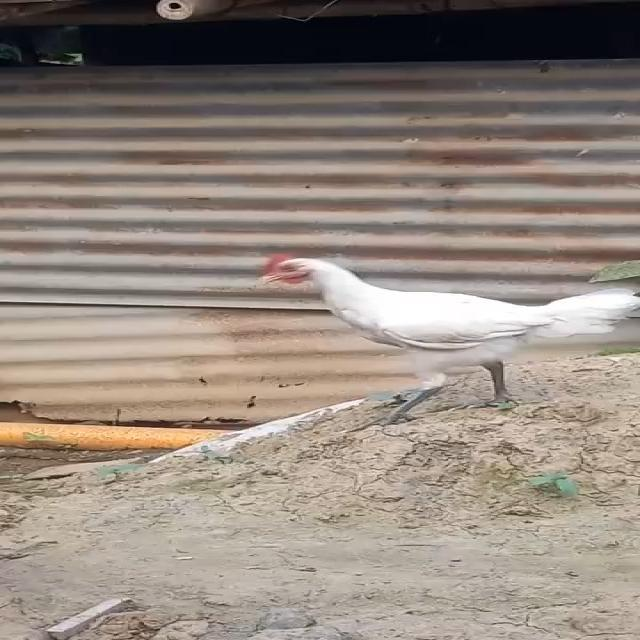walking: (252, 236, 640, 428)
